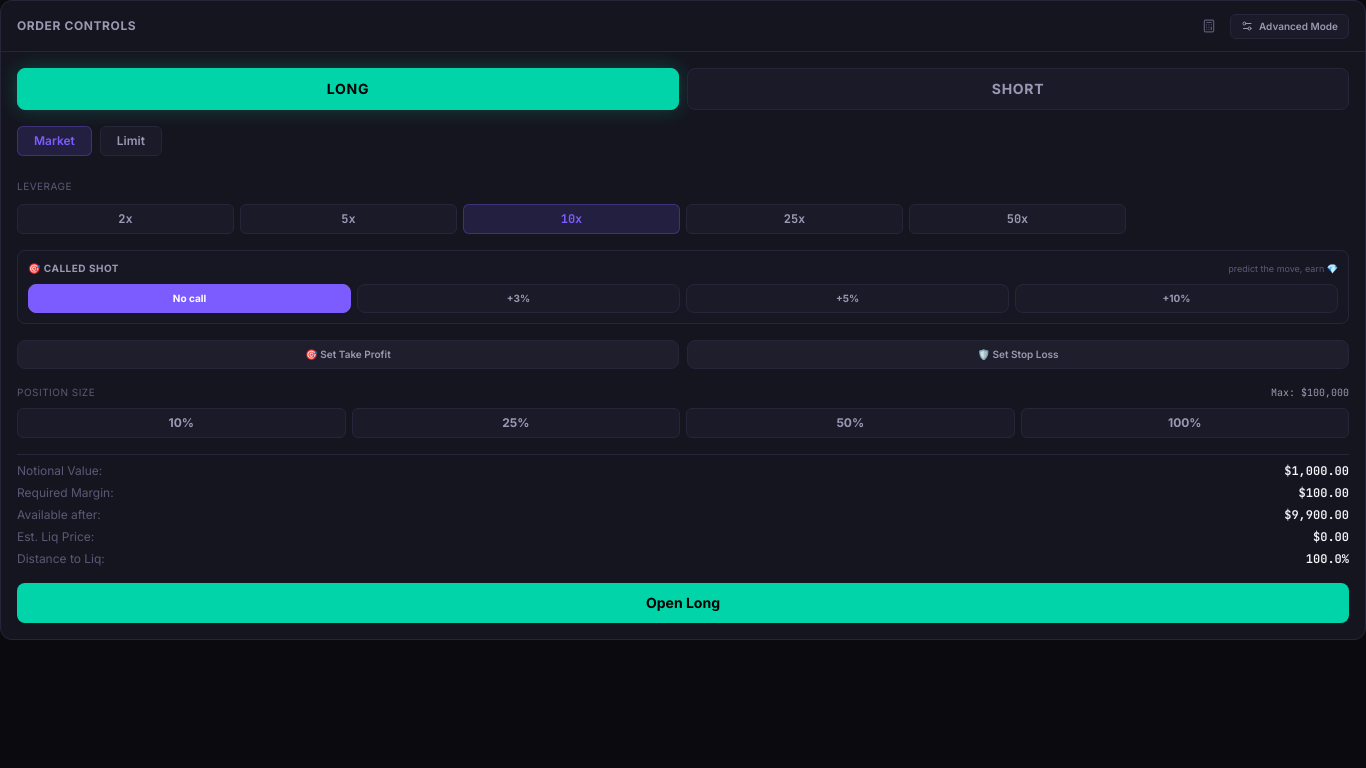
Test: TradeControls › shows step settings on gear icon click and hides by default
This screenshot has width=1366, height=768.
What coordinates should you click on to do the following:
click the button "Limit"
I would click on:
 (131, 141)
Its box is [100, 126, 162, 156].
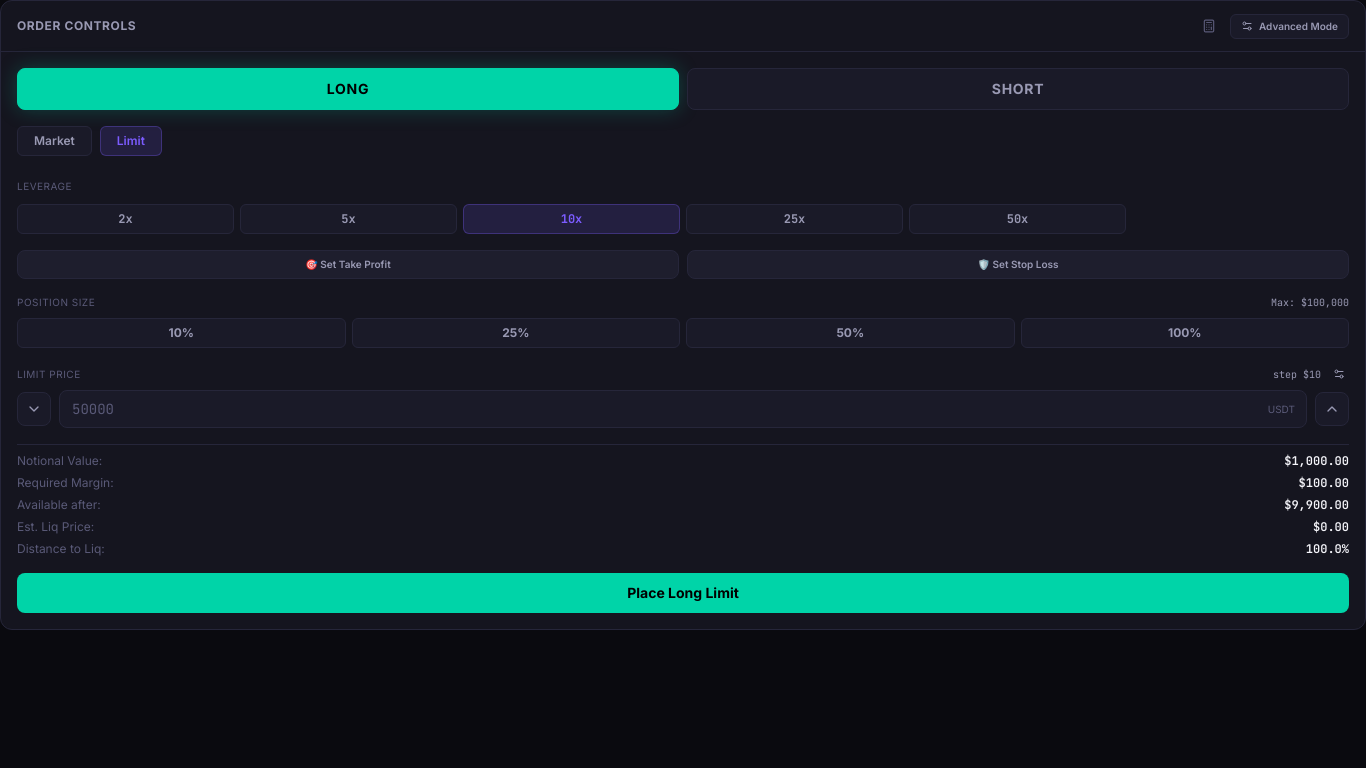
Check: the text "$5" is not shown
What coordinates should you click on to do the following:
click the button named "Step settings"
I would click on:
 (1339, 374)
Its box is [1329, 364, 1349, 384].
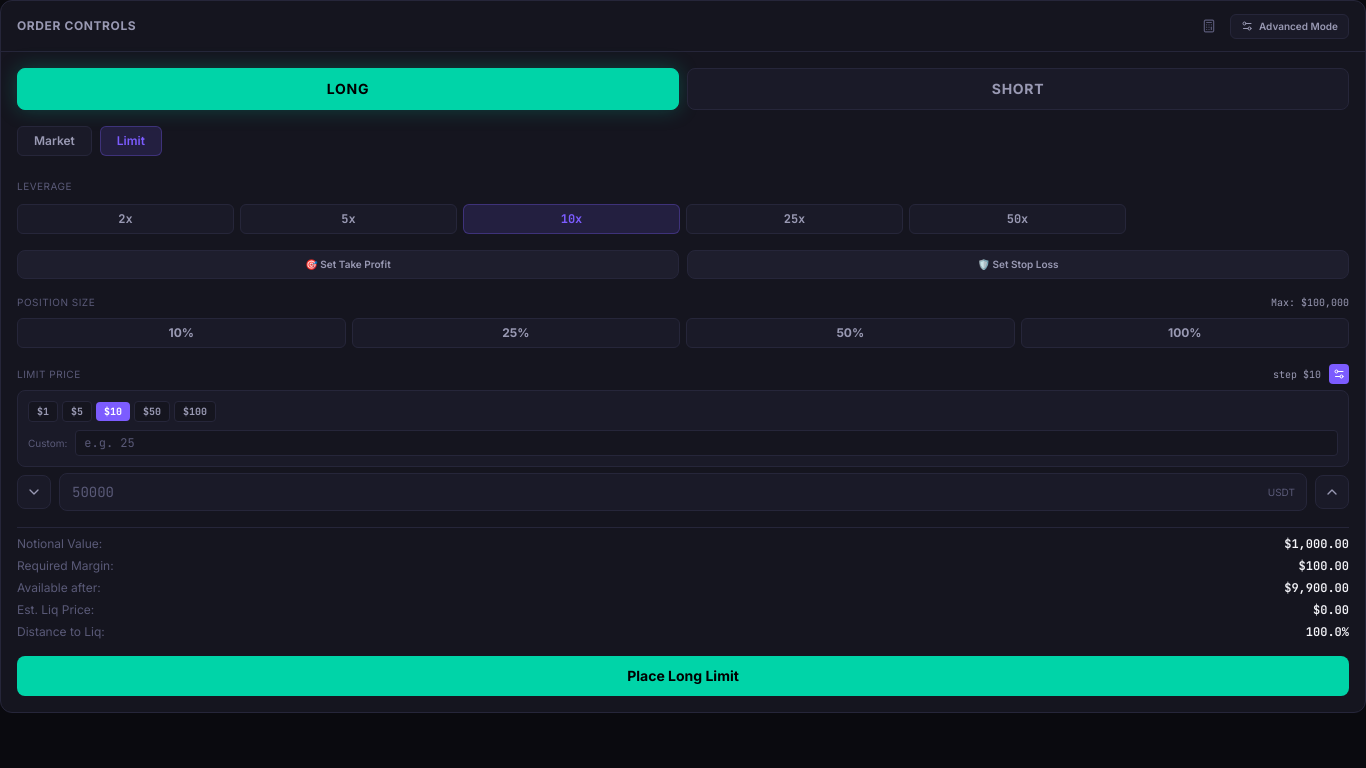
Check: the button "$1" is shown, box [28, 401, 58, 422]
Check: the button "$5" is shown, box [62, 401, 92, 422]
